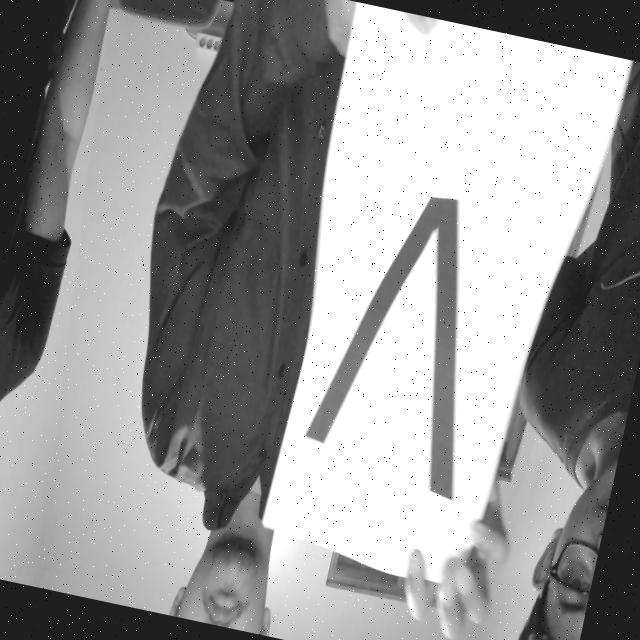v: (276, 161, 536, 534)
